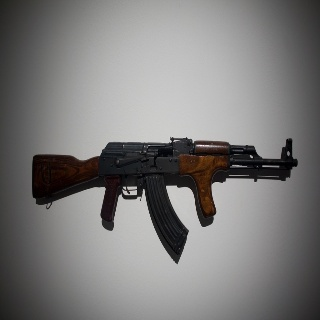rifle: (31, 134, 301, 257)
